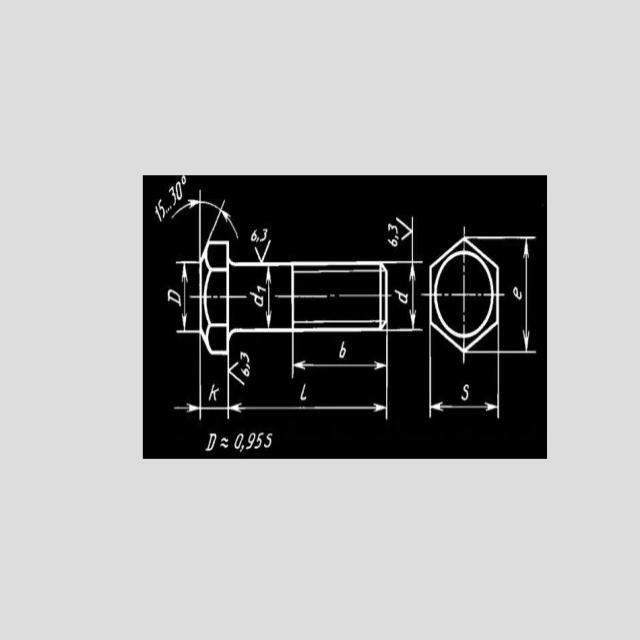marking_line: (174, 357, 390, 420), (289, 333, 391, 380), (427, 355, 500, 419), (501, 235, 537, 356), (388, 259, 424, 333), (174, 341, 203, 421), (171, 188, 204, 250), (205, 189, 243, 240), (175, 259, 199, 336), (225, 356, 253, 421), (386, 216, 415, 259), (264, 266, 273, 327)
numeric: (245, 431, 256, 450), (234, 432, 244, 450), (254, 432, 264, 449), (158, 198, 166, 218), (264, 433, 274, 449), (175, 181, 183, 200), (169, 186, 176, 206), (260, 228, 269, 242), (155, 206, 162, 223), (387, 224, 398, 234), (240, 352, 249, 364), (250, 229, 258, 242), (240, 367, 250, 377), (387, 239, 398, 247)
special_symbol: (394, 217, 411, 241), (254, 239, 272, 261), (220, 437, 229, 450), (181, 176, 186, 185), (245, 363, 250, 370), (394, 235, 400, 240)
